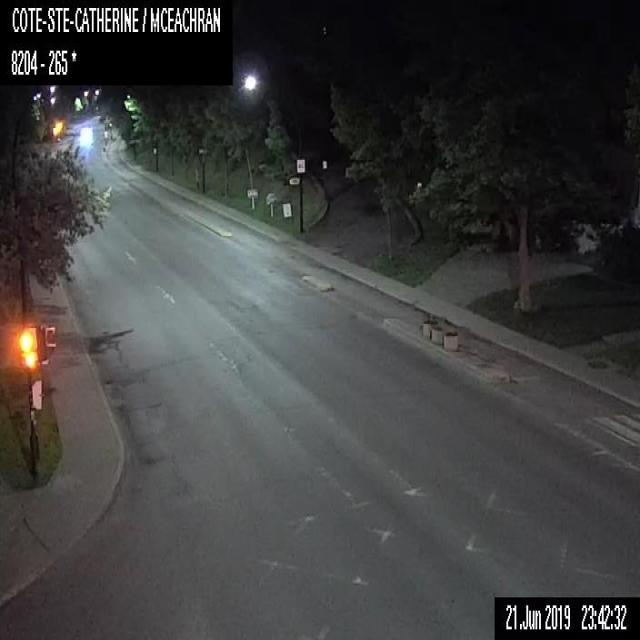vehicle: (79, 125, 93, 147)
